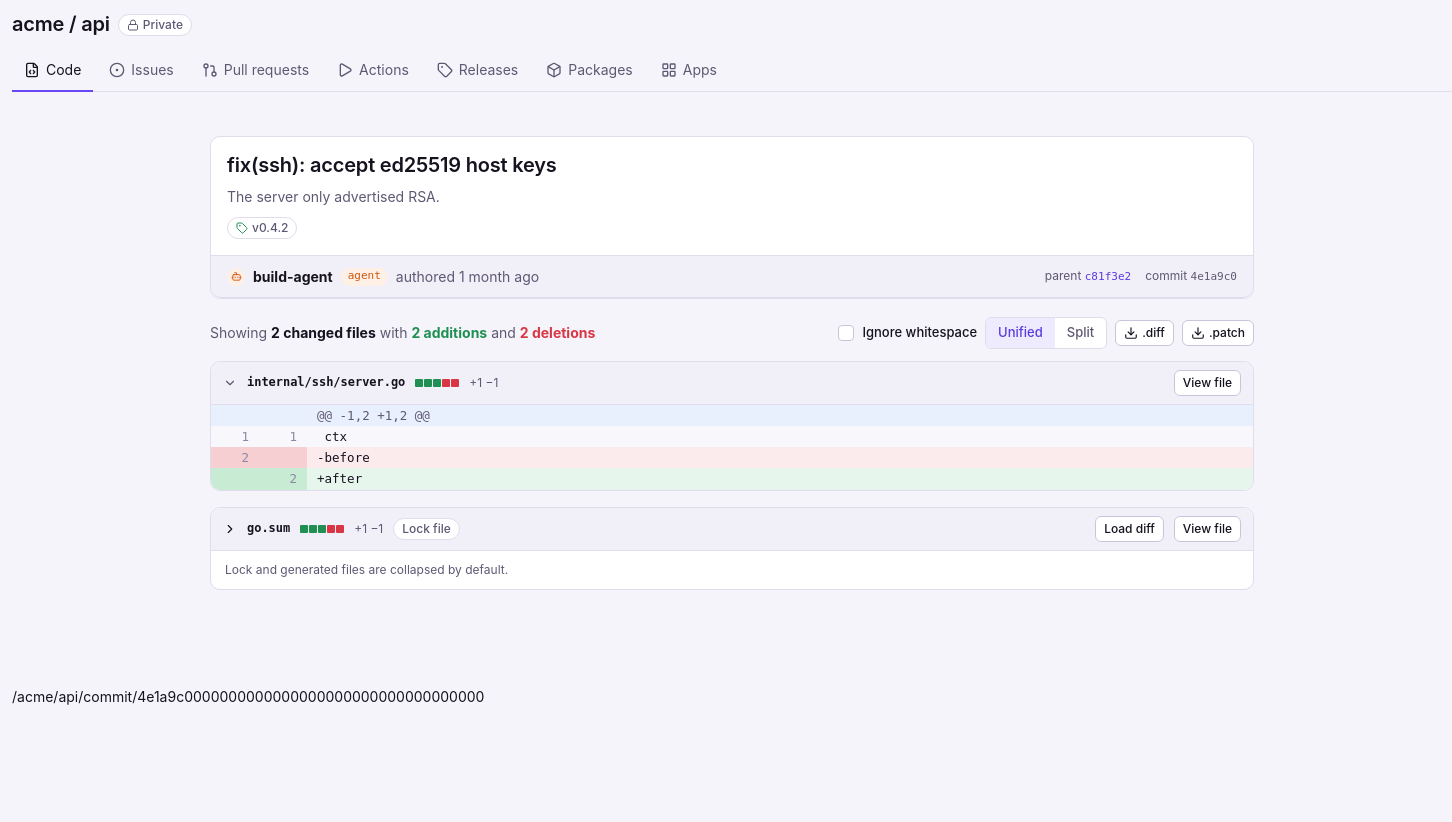
Scenario: dettaglio commit (mockup 10) › file chiuso con motivo e Load diff
Expected: the table named "Unified diff of internal/ssh/server.go" is shown, [211, 404, 1253, 490]
Expected: the text "Lock file" is shown, [393, 518, 460, 540]
Click the button "Load diff" at (1129, 528), box [1095, 516, 1164, 542]
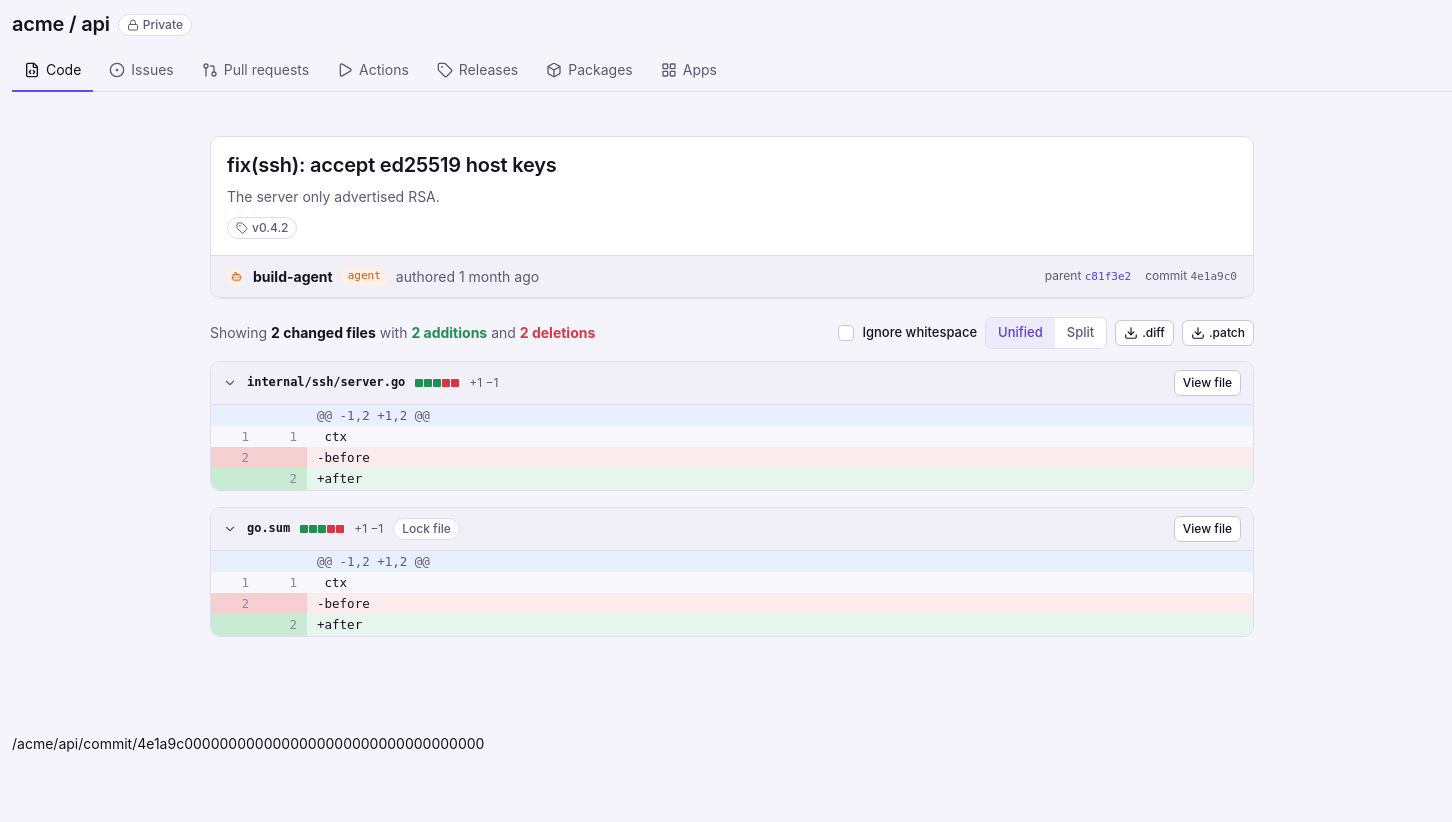
Expected: the table named "Unified diff of go.sum" is shown, [211, 550, 1253, 636]
